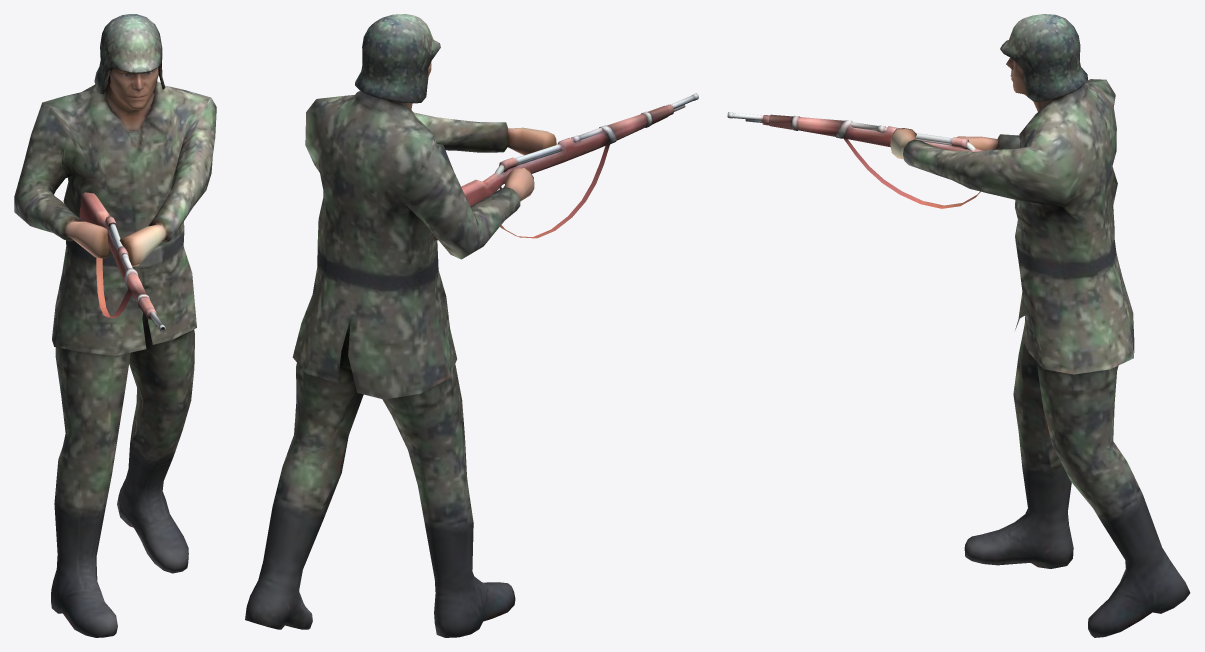
The model's file is Partisan.glb.
3 renders of one model, left to right at view 1: azimuth 30°, elevation 25°; view 2: azimuth 150°, elevation 25°; view 3: azimuth 270°, elevation 25°, orthographic. The views are drawn at different scales.
Visible parts, largest first — view 1: low1, low; view 2: low1, low; view 3: low1, low.
Part boxes in pixels (x1,y1,x2,y2): low1: [14, 14, 216, 637]; low: [79, 192, 165, 331]; low1: [245, 14, 556, 637]; low: [434, 93, 698, 240]; low1: [890, 14, 1190, 637]; low: [727, 112, 982, 208].
Bounding box in the file's own units: 0.6659 × 1.7 × 1.23.
1 material, 1 textured.
